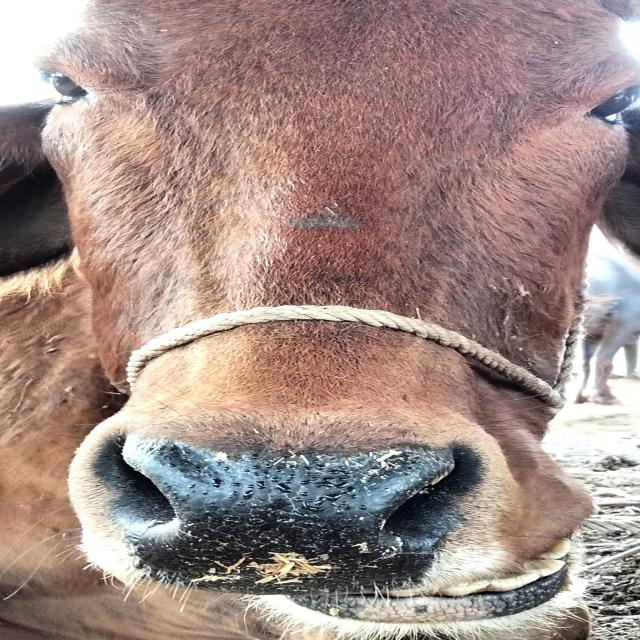muzzles: (85, 417, 500, 596)
